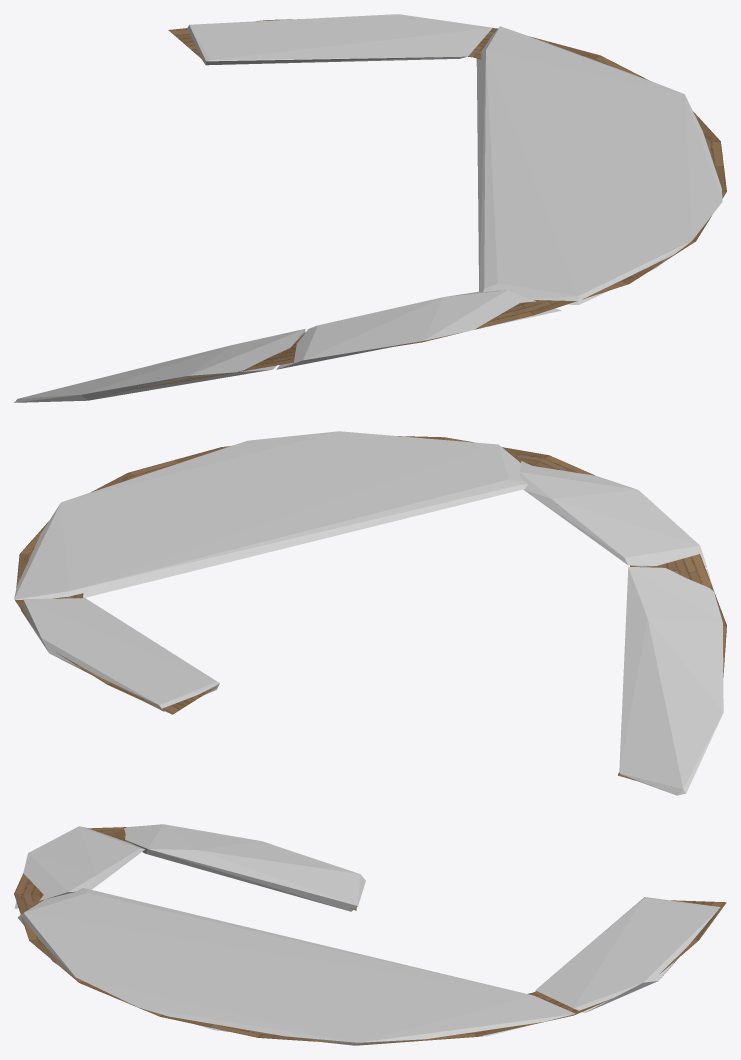
Rendered from SM_Bld_Planetarium_01_floorBoards.fbx.
3 views of the same model, one above another, from view 1: azimuth 30°, elevation 25°; view 2: azimuth 150°, elevation 25°; view 3: azimuth 270°, elevation 25° (orthographic). The views are drawn at different scales.
Parts seen in each view (by area): view 1: SM_Bld_Planetarium_01_floorBoards_ConvexHulls, SM_Bld_Planetarium_01_floorBoards; view 2: SM_Bld_Planetarium_01_floorBoards_ConvexHulls, SM_Bld_Planetarium_01_floorBoards; view 3: SM_Bld_Planetarium_01_floorBoards_ConvexHulls, SM_Bld_Planetarium_01_floorBoards.
Boxes of the visible parts, left/top/right/bottom form: SM_Bld_Planetarium_01_floorBoards_ConvexHulls: left=14, top=14, right=722, bottom=402; SM_Bld_Planetarium_01_floorBoards: left=127, top=19, right=726, bottom=390; SM_Bld_Planetarium_01_floorBoards_ConvexHulls: left=14, top=431, right=723, bottom=795; SM_Bld_Planetarium_01_floorBoards: left=15, top=436, right=726, bottom=781; SM_Bld_Planetarium_01_floorBoards_ConvexHulls: left=14, top=824, right=720, bottom=1045; SM_Bld_Planetarium_01_floorBoards: left=14, top=827, right=726, bottom=1044.
Bounding box in the file's own units: 1459 × 1450 × 310.
2 materials, 1 textured.
